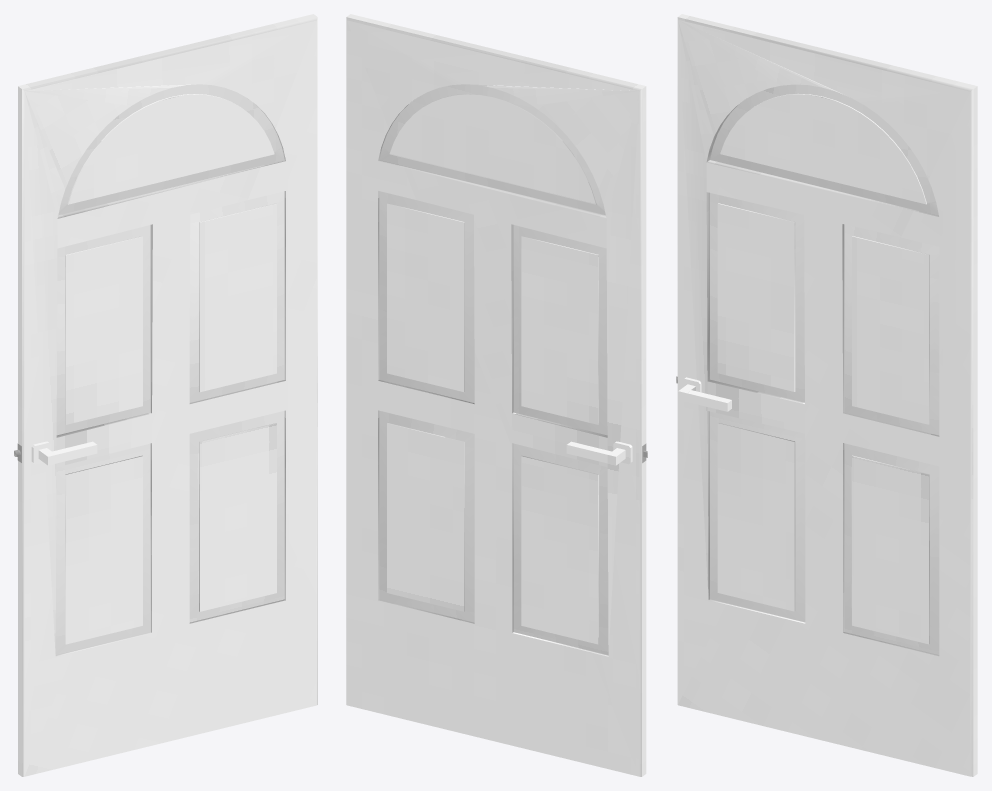
Rendered from DoorFourPanelHalfMoon.glb.
The picture shows the model from 3 angles, left to right: view 1: azimuth 30°, elevation 25°; view 2: azimuth 150°, elevation 25°; view 3: azimuth 330°, elevation 25°; orthographic projection.
Visible parts, largest first — view 1: DoorFourPanelHalfMoon; view 2: DoorFourPanelHalfMoon; view 3: DoorFourPanelHalfMoon.
Part boxes in pixels (x1=…): DoorFourPanelHalfMoon: x1=14, y1=14, x2=317, y2=776; DoorFourPanelHalfMoon: x1=346, y1=14, x2=647, y2=776; DoorFourPanelHalfMoon: x1=676, y1=14, x2=977, y2=776.
Bounding box in the file's own units: 0.9286 × 2.03 × 0.1584.
1 material, 1 textured.
